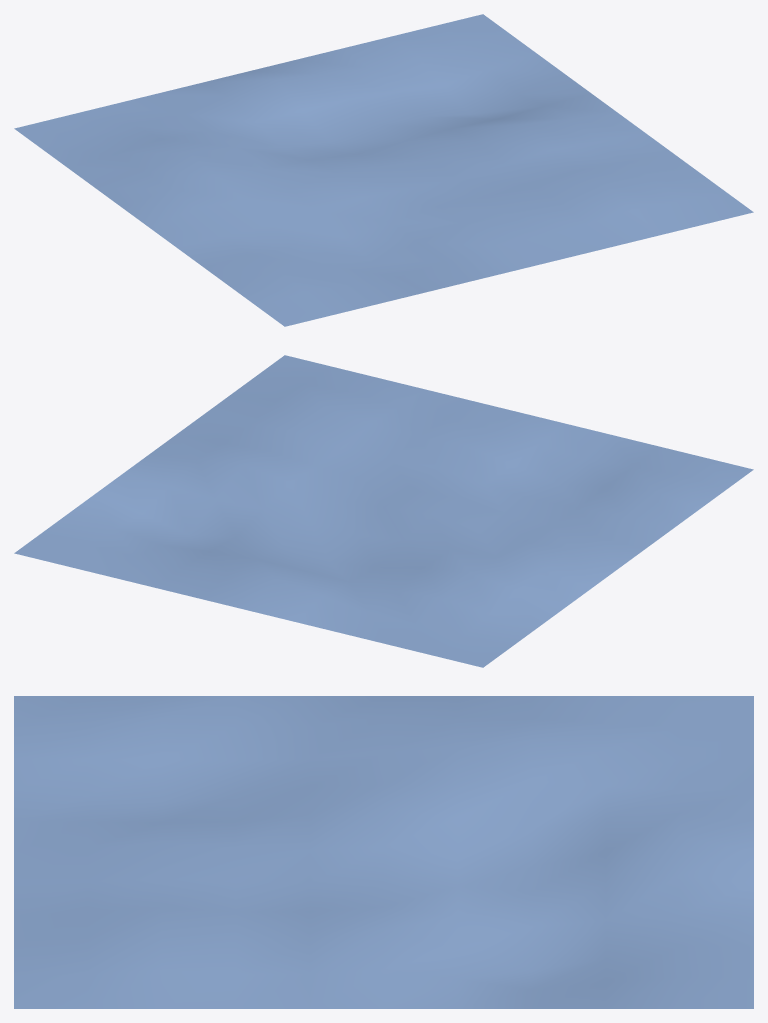
Rendered from songvrGroundSea.FBX.
3 views of the same model, one above another, from view 1: azimuth 30°, elevation 25°; view 2: azimuth 150°, elevation 25°; view 3: azimuth 270°, elevation 25° (orthographic). The views are drawn at different scales.
Visible parts, largest first — view 1: songvrGroundSea; view 2: songvrGroundSea; view 3: songvrGroundSea.
Boxes of the visible parts, box(x1,y1,x2,y2) form: songvrGroundSea: box(14, 14, 753, 326); songvrGroundSea: box(14, 355, 753, 667); songvrGroundSea: box(14, 696, 753, 1008).
Bounding box in the file's own units: 100 × 6.15 × 100.
